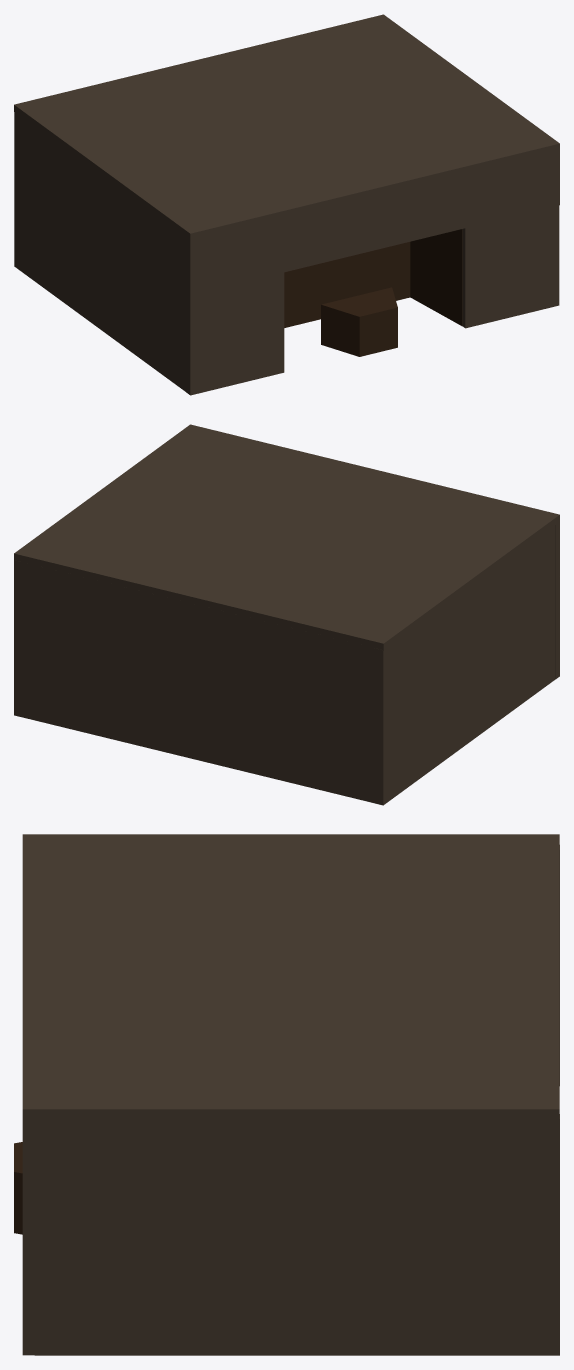
The model's file is Museum.fbx.
3 views of the same model, one above another, from view 1: azimuth 30°, elevation 25°; view 2: azimuth 150°, elevation 25°; view 3: azimuth 270°, elevation 25° (orthographic). The views are drawn at different scales.
Visible parts, largest first — view 1: Cube.005, Cube.007, Cube, Cube.002; view 2: Cube.005; view 3: Cube.005, Cube.
Part boxes in pixels (x1,y1,x2,y2): Cube.005: (14,14,559,395); Cube.007: (284,242,410,327); Cube: (321,287,397,356); Cube.002: (410,229,462,325); Cube.005: (14,424,559,805); Cube.005: (22,834,559,1355); Cube: (14,1142,22,1234).
Size of the model in its own units: 1926 by 806 by 1617.
